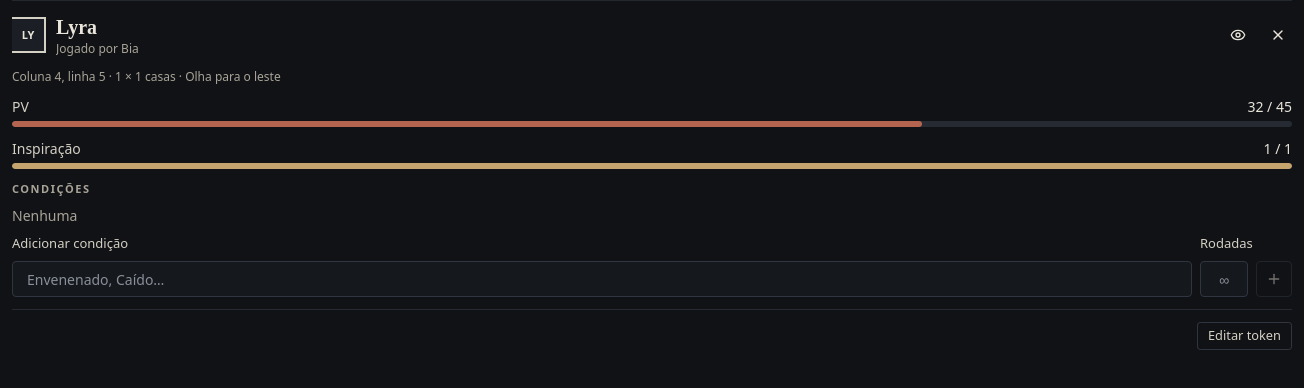
Scenario: TokenDock › the condition suggestions float outside the detail, so its scroll never cuts them
The image size is (1304, 388).
Step 1. Click the dropdown labelled "Adicionar condição" → (602, 279), box [12, 261, 1192, 297]
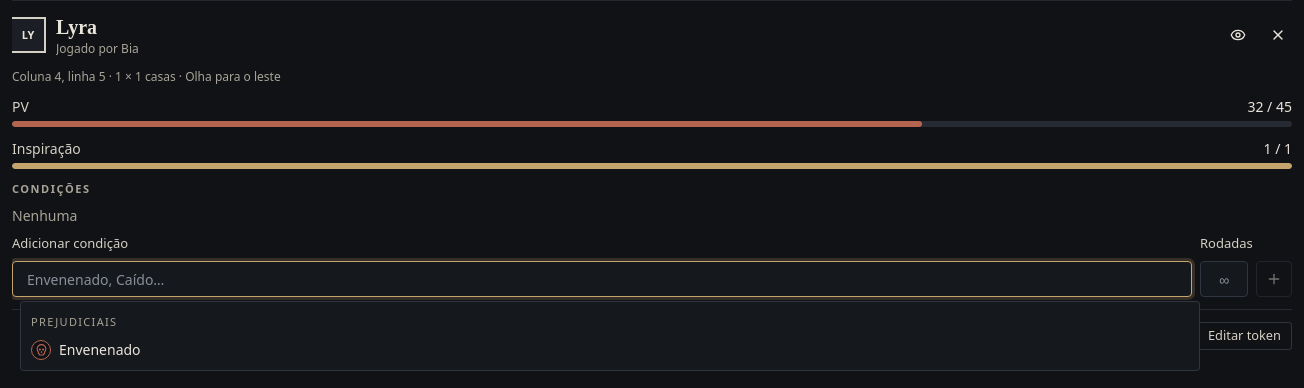
Expected: the option "Envenenado" is shown, [31, 340, 141, 360]
